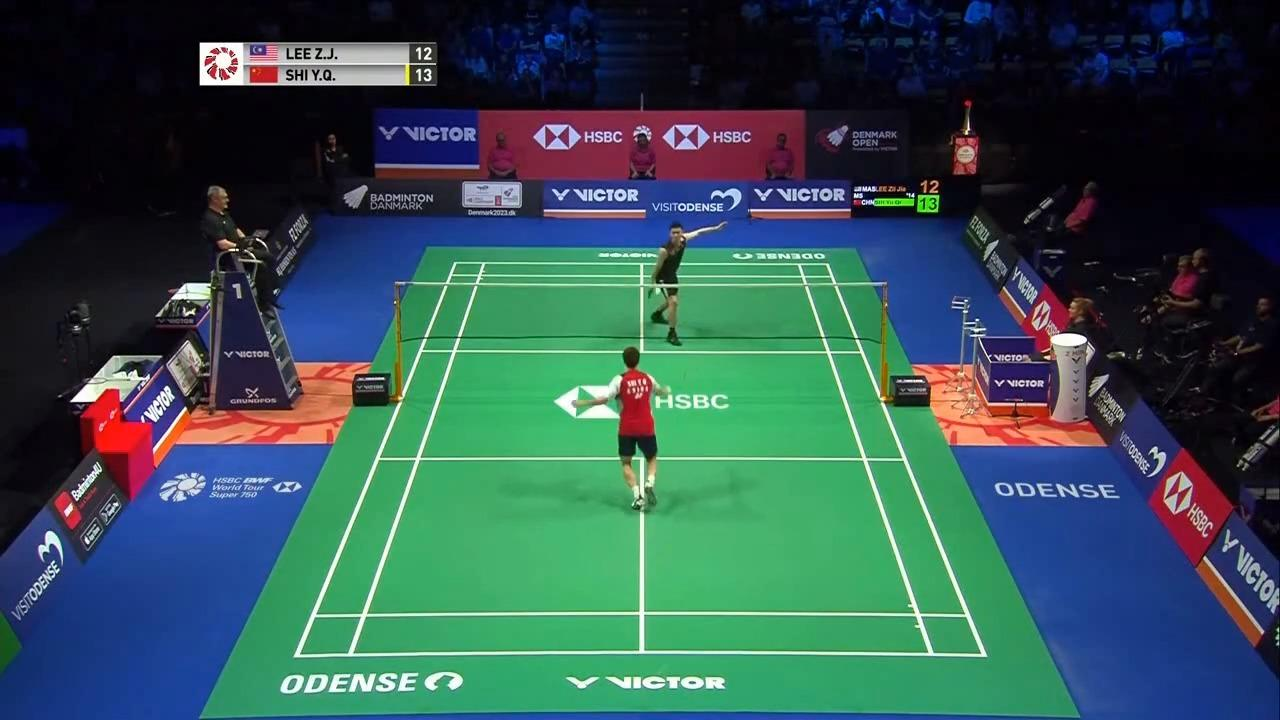shuttle: (654, 289, 663, 296)
